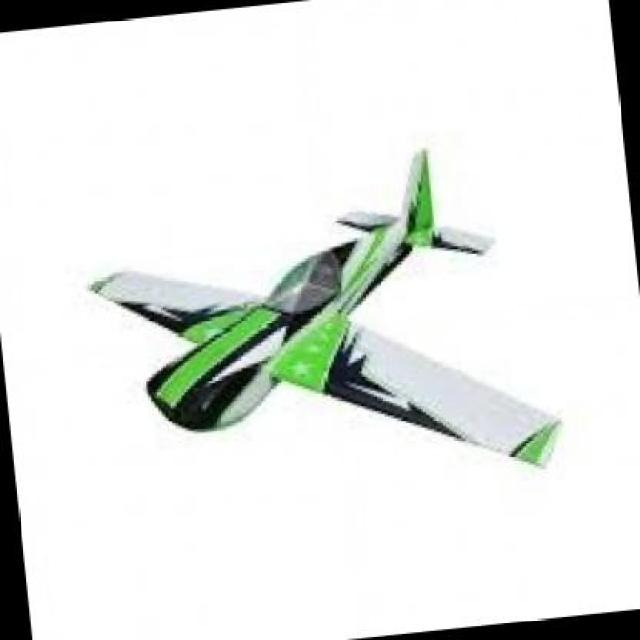iha: (46, 141, 595, 486)
